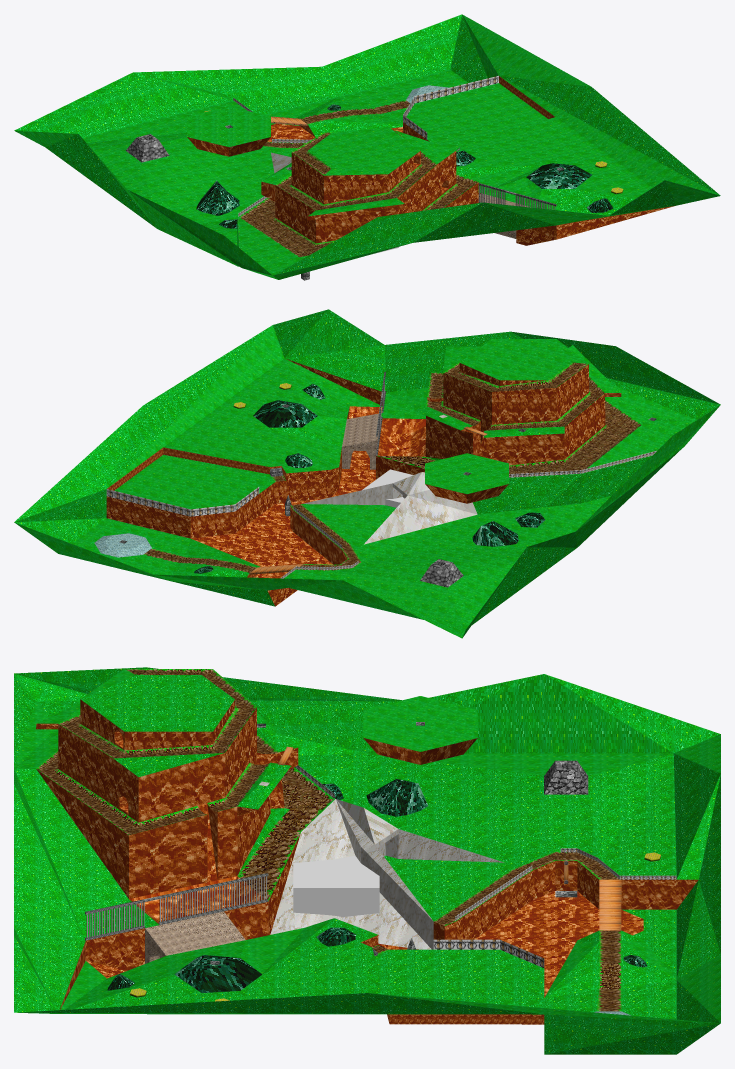
Rendered from bob omb battlefield.fbx.
The picture shows the model from 3 angles, top to bottom: view 1: azimuth 30°, elevation 25°; view 2: azimuth 150°, elevation 25°; view 3: azimuth 270°, elevation 25°; orthographic projection. The views are drawn at different scales.
Visible parts, largest first — view 1: Shape_IndexedFaceSet.009, Shape_IndexedFaceSet.022, Shape_IndexedFaceSet.024, Shape_IndexedFaceSet.025, Shape_IndexedFaceSet.014, Shape_IndexedFaceSet.027, Shape_IndexedFaceSet.065, Shape_IndexedFaceSet.010, Shape_IndexedFaceSet.017, Shape_IndexedFaceSet.064; view 2: Shape_IndexedFaceSet.009, Shape_IndexedFaceSet.022, Shape_IndexedFaceSet.024, Shape_IndexedFaceSet.025, Shape_IndexedFaceSet.016, Shape_IndexedFaceSet.014, Shape_IndexedFaceSet.065, Shape_IndexedFaceSet.010, Shape_IndexedFaceSet.027, Shape_IndexedFaceSet.015, Shape_IndexedFaceSet.012, Shape_IndexedFaceSet.017 (+2 smaller); view 3: Shape_IndexedFaceSet.009, Shape_IndexedFaceSet.022, Shape_IndexedFaceSet.016, Shape_IndexedFaceSet.024, Shape_IndexedFaceSet.025, Shape_IndexedFaceSet.014, Cube, Shape_IndexedFaceSet.010, Shape_IndexedFaceSet.064, Shape_IndexedFaceSet.015, Shape_IndexedFaceSet.065, Shape_IndexedFaceSet.013 (+3 smaller).
Boxes of the visible parts, x1,y1,x2,y2 form: Shape_IndexedFaceSet.009: (14, 14, 720, 279); Shape_IndexedFaceSet.022: (187, 76, 675, 245); Shape_IndexedFaceSet.024: (262, 127, 455, 216); Shape_IndexedFaceSet.025: (239, 130, 478, 257); Shape_IndexedFaceSet.014: (196, 104, 613, 228); Shape_IndexedFaceSet.027: (244, 200, 328, 256); Shape_IndexedFaceSet.065: (233, 75, 498, 247); Shape_IndexedFaceSet.010: (263, 100, 409, 148); Shape_IndexedFaceSet.017: (125, 134, 459, 162); Shape_IndexedFaceSet.064: (479, 185, 555, 209); Shape_IndexedFaceSet.009: (14, 309, 720, 638); Shape_IndexedFaceSet.022: (106, 359, 621, 606); Shape_IndexedFaceSet.024: (414, 339, 620, 460); Shape_IndexedFaceSet.025: (376, 361, 641, 469); Shape_IndexedFaceSet.016: (302, 414, 477, 544); Shape_IndexedFaceSet.014: (194, 384, 545, 573); Shape_IndexedFaceSet.065: (106, 450, 656, 578); Shape_IndexedFaceSet.010: (143, 475, 361, 573); Shape_IndexedFaceSet.027: (509, 404, 636, 473); Shape_IndexedFaceSet.015: (342, 413, 381, 469); Shape_IndexedFaceSet.012: (94, 533, 151, 557); Shape_IndexedFaceSet.017: (270, 467, 463, 587); Shape_IndexedFaceSet.009: (14, 667, 720, 1054); Shape_IndexedFaceSet.022: (36, 699, 698, 1024); Shape_IndexedFaceSet.016: (259, 781, 504, 949); Shape_IndexedFaceSet.024: (37, 669, 297, 874); Shape_IndexedFaceSet.025: (36, 669, 333, 900); Shape_IndexedFaceSet.014: (107, 779, 647, 992); Cube: (293, 855, 379, 916); Shape_IndexedFaceSet.010: (372, 851, 621, 1011); Shape_IndexedFaceSet.064: (86, 876, 267, 937); Shape_IndexedFaceSet.015: (145, 911, 245, 963); Shape_IndexedFaceSet.065: (295, 765, 676, 967); Shape_IndexedFaceSet.013: (85, 722, 577, 964).
Size of the model in its own units: 1639 by 532 by 1638.
